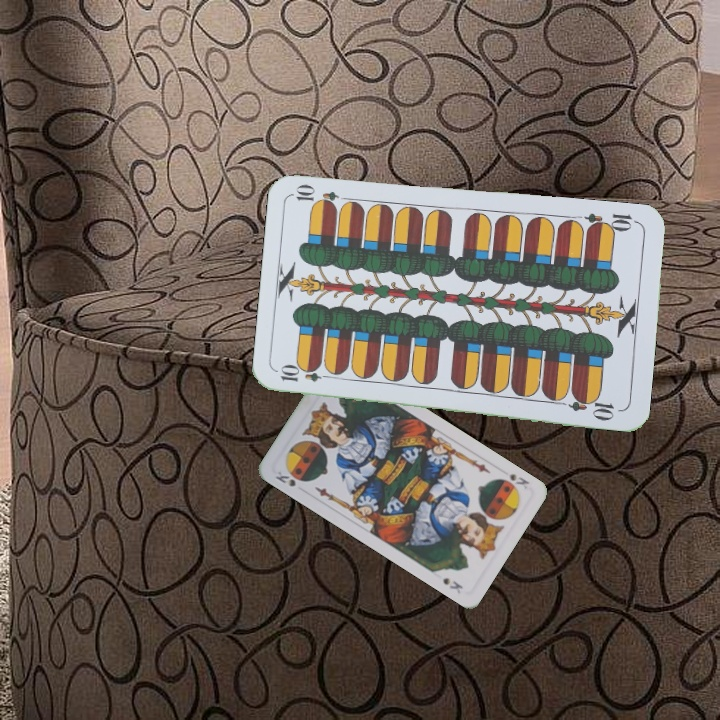E10: (582, 209, 641, 236), (276, 365, 335, 385)
SK: (504, 469, 532, 493), (271, 467, 298, 489)
